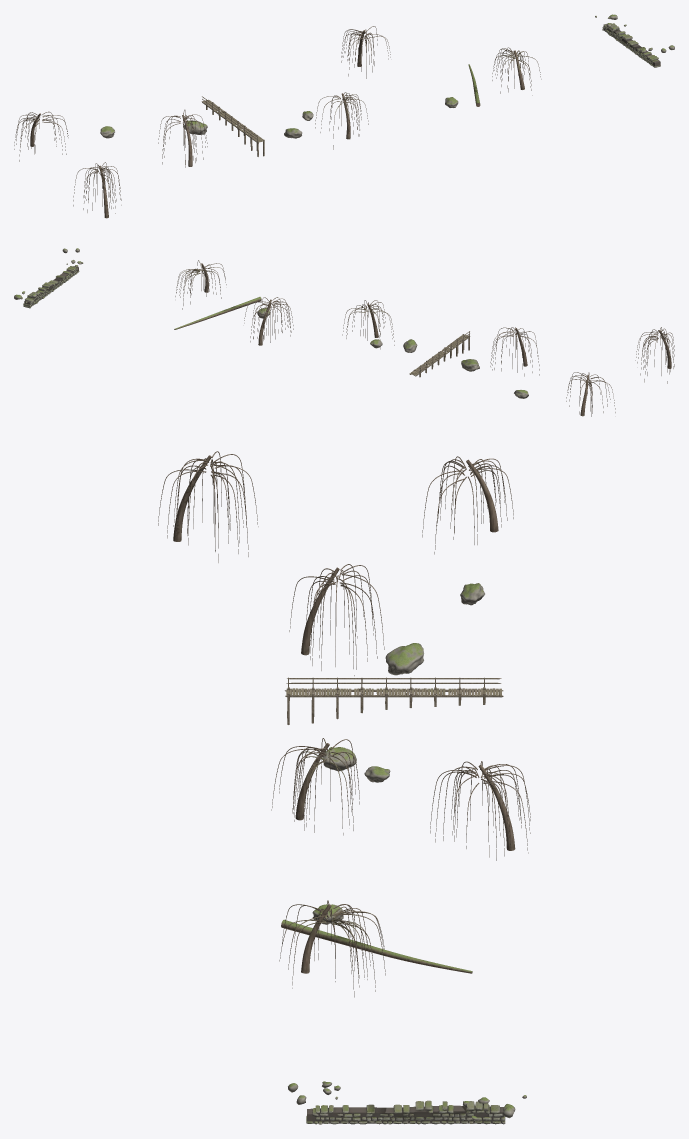
The model's file is stauwehr-bauten.glb.
The picture shows the model from 3 angles, top to bottom: view 1: azimuth 30°, elevation 25°; view 2: azimuth 150°, elevation 25°; view 3: azimuth 270°, elevation 25°; orthographic projection. The views are drawn at different scales.
Parts seen in each view (by area): view 1: Weide5_Holz, Wasserbloecke, Weide0_Holz, Weide2_Holz, Steg, Weide3_Holz, Weide1_Holz, Weide4_Holz, Wehr; view 2: Weide2_Holz, Weide5_Holz, Weide0_Holz, Wasserbloecke, Steg, Weide4_Holz, Weide1_Holz, Wehr, Weide3_Holz, Sturzstamm; view 3: Steg, Wehr, Wasserbloecke, Weide2_Holz, Weide5_Holz, Weide0_Holz, Weide4_Holz, Weide1_Holz, Weide3_Holz, Wehr_Kern, Sturzstamm.
Boxes of the visible parts, x1,y1,x2,y2 form: Weide5_Holz: [73, 162, 121, 218]; Wasserbloecke: [100, 97, 458, 138]; Weide0_Holz: [158, 109, 207, 167]; Weide2_Holz: [341, 26, 390, 78]; Steg: [201, 96, 264, 156]; Weide3_Holz: [14, 111, 68, 161]; Weide1_Holz: [315, 92, 368, 149]; Weide4_Holz: [492, 47, 541, 95]; Wehr: [602, 23, 660, 67]; Weide2_Holz: [244, 297, 293, 345]; Weide5_Holz: [635, 327, 674, 383]; Weide0_Holz: [490, 327, 539, 376]; Wasserbloecke: [257, 308, 528, 398]; Steg: [409, 331, 470, 377]; Weide4_Holz: [175, 260, 226, 309]; Weide1_Holz: [342, 300, 394, 349]; Wehr: [23, 266, 79, 308]; Weide3_Holz: [566, 372, 615, 416]; Sturzstamm: [174, 297, 261, 329]; Steg: [285, 677, 503, 724]; Wehr: [306, 1100, 505, 1124]; Wasserbloecke: [312, 583, 484, 924]; Weide2_Holz: [430, 761, 530, 860]; Weide5_Holz: [158, 451, 258, 562]; Weide0_Holz: [289, 564, 384, 675]; Weide4_Holz: [279, 900, 385, 997]; Weide1_Holz: [271, 738, 359, 835]; Weide3_Holz: [422, 456, 513, 554]; Wehr_Kern: [307, 1105, 503, 1123]; Sturzstamm: [281, 919, 472, 973].
Size of the model in its own units: 123 by 12.32 by 33.54.
12 materials, 12 textured.
